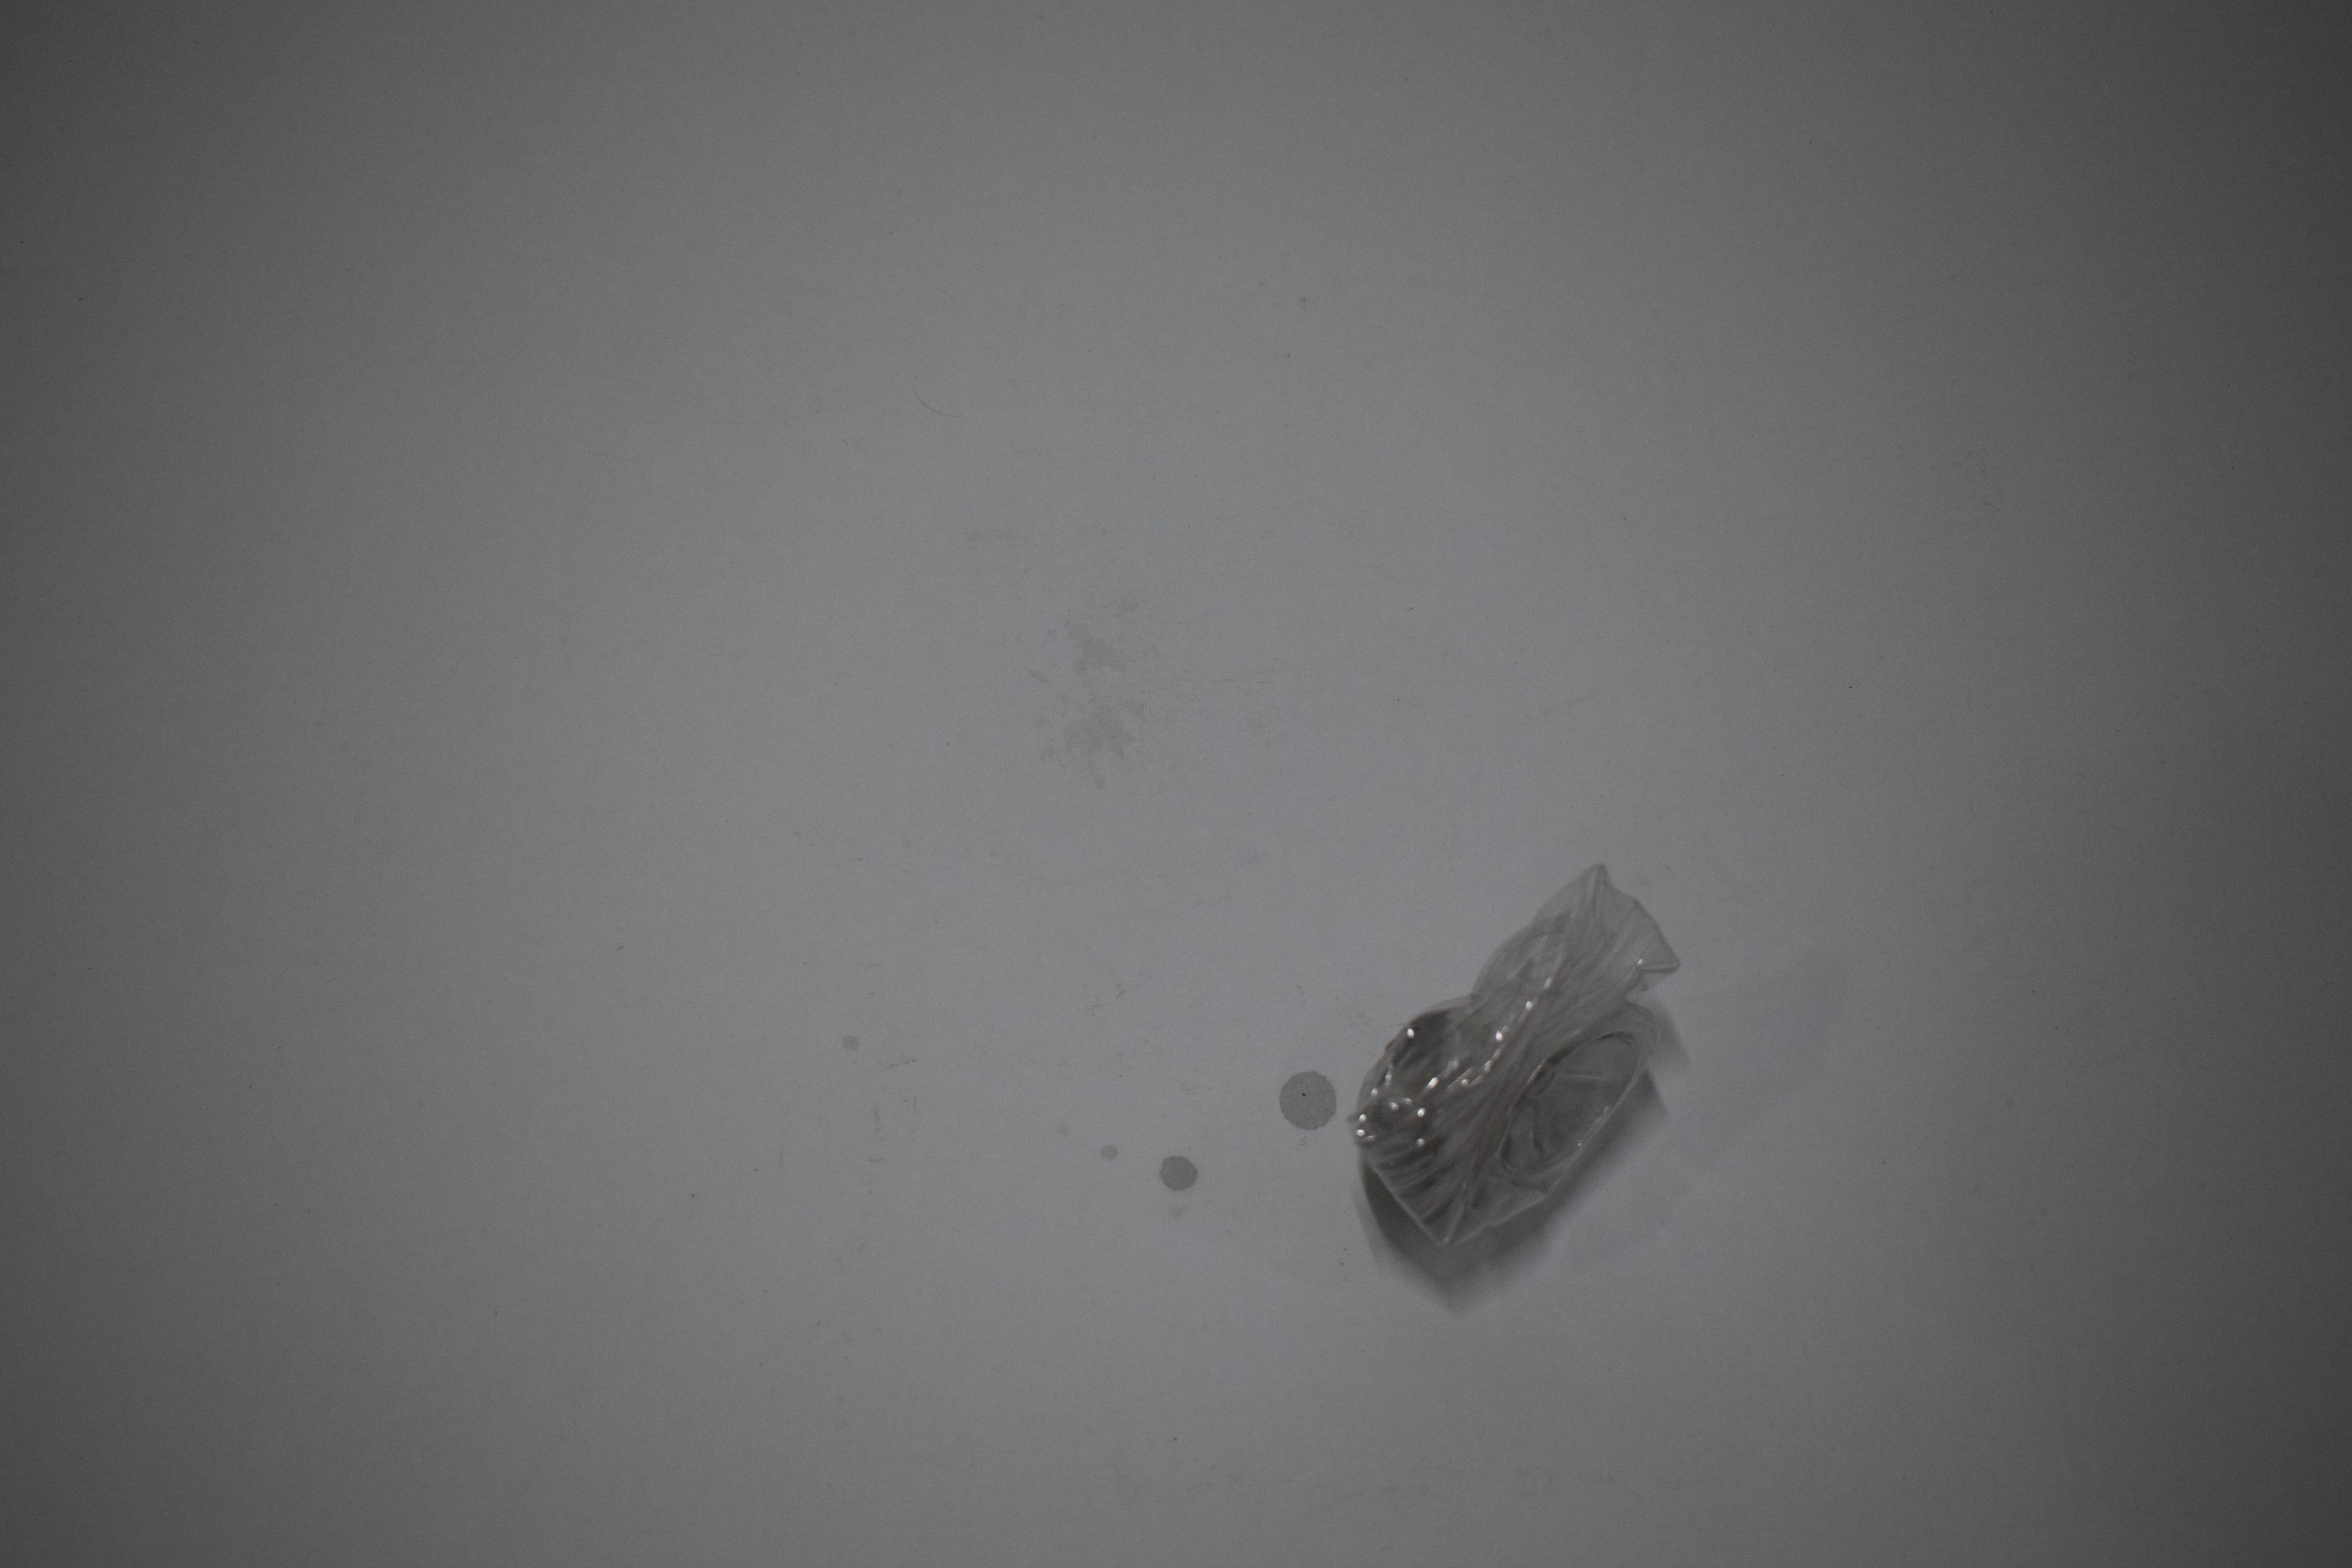bottle: (1335, 851, 1685, 1309)
